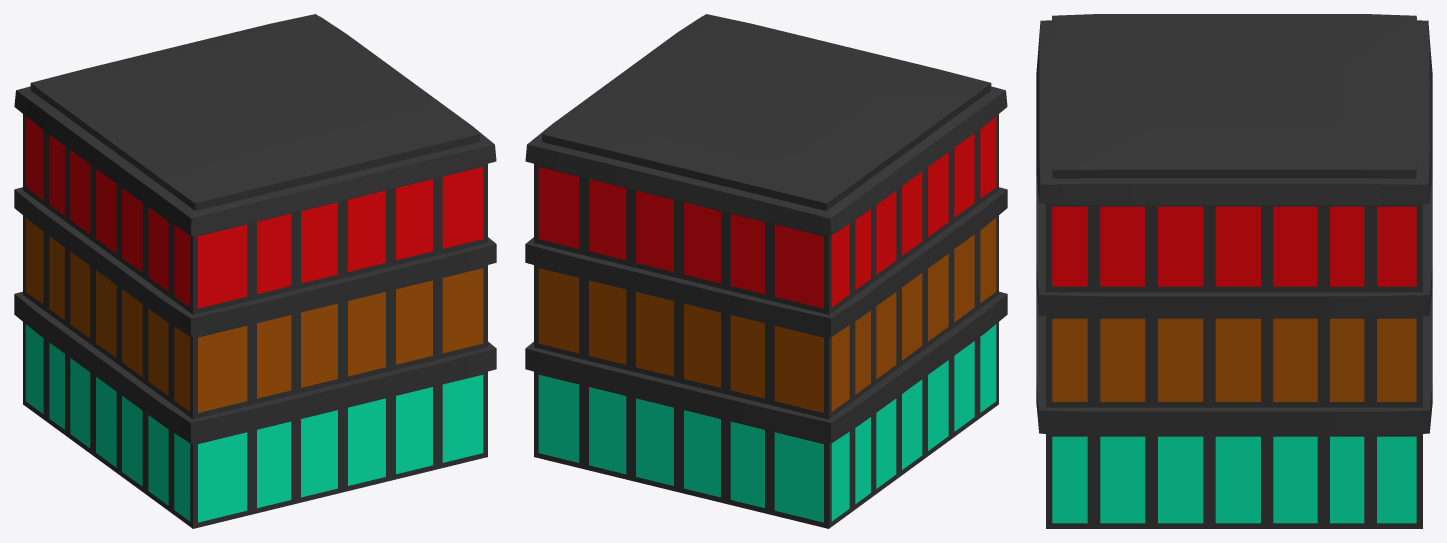
File: MOD_BatG.FBX
3 views of the same model, side by side, from view 1: azimuth 30°, elevation 25°; view 2: azimuth 150°, elevation 25°; view 3: azimuth 270°, elevation 25° (orthographic). The views are drawn at different scales.
Parts seen in each view (by area): view 1: Building A002; view 2: Building A002; view 3: Building A002.
Boxes of the visible parts, x1,y1,x2,y2 form: Building A002: (14,14,496,528); Building A002: (525,14,1007,528); Building A002: (1036,14,1432,528).
Bounding box in the file's own units: 31.53 × 31.53 × 31.53.
